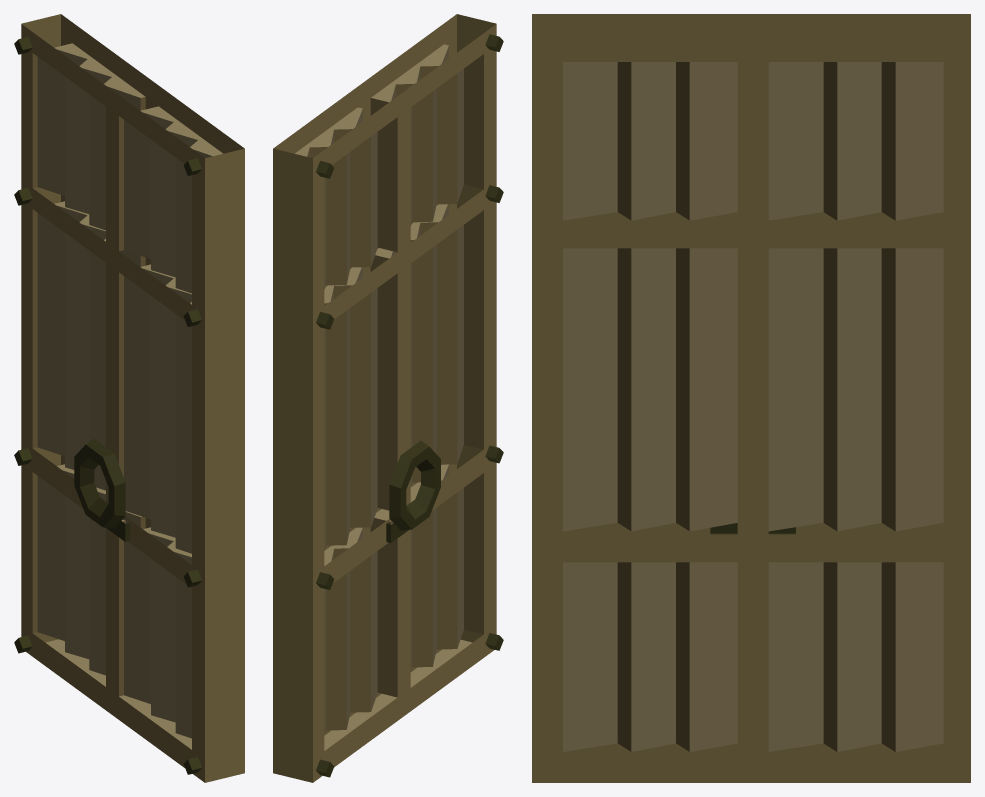
3 renders of one model, left to right at view 1: azimuth 30°, elevation 25°; view 2: azimuth 150°, elevation 25°; view 3: azimuth 270°, elevation 25°, orthographic. The views are drawn at different scales.
Size of the model in its own units: 0.1797 by 1.88 by 1.
